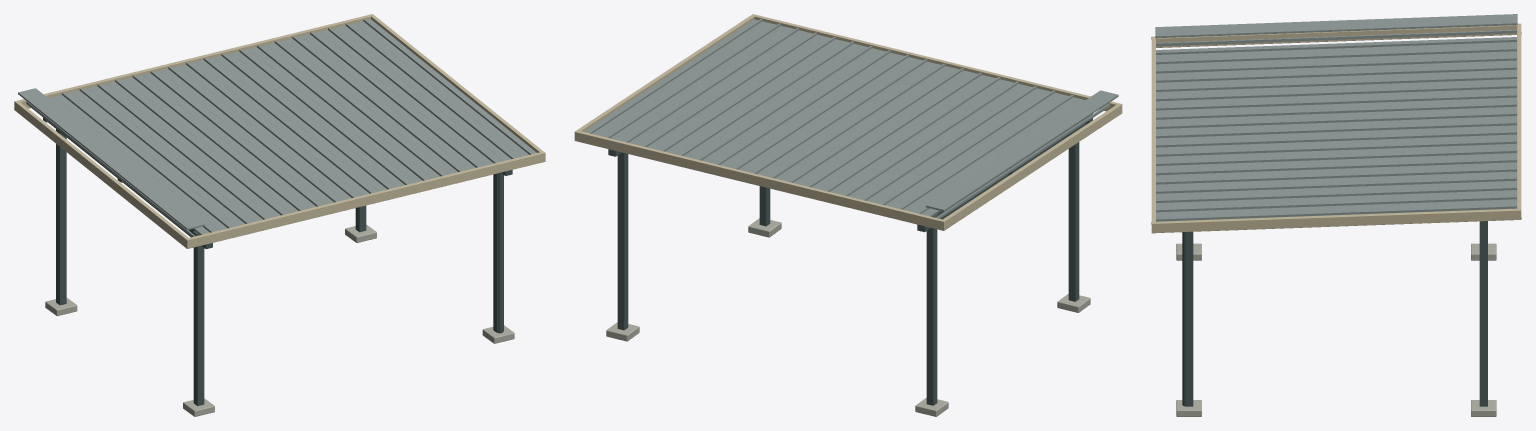
The model's file is source-edit.glb.
3 views of the same model, side by side, from view 1: azimuth 30°, elevation 25°; view 2: azimuth 150°, elevation 25°; view 3: azimuth 270°, elevation 25° (orthographic). The views are drawn at different scales.
Parts seen in each view (by area): view 1: FASCIA_End, ROOF_Sheet_0, ROOF_Sheet_13, ROOF_Sheet_11, ROOF_Sheet_18, ROOF_Sheet_2, ROOF_Sheet_14, ROOF_Sheet_17, ROOF_Sheet_10, ROOF_Sheet_15, ROOF_Sheet_4, ROOF_Sheet_6 (+35 smaller); view 2: FASCIA_End.001, ROOF_Sheet_0, ROOF_Sheet_2, ROOF_Sheet_5, ROOF_Sheet_7, ROOF_Sheet_18, ROOF_Sheet_3, ROOF_Sheet_4, ROOF_Sheet_9, ROOF_Sheet_11, ROOF_Sheet_16, ROOF_Sheet_14 (+35 smaller); view 3: FASCIA_Side.001, ROOF_Sheet_0, FASCIA_Side, ROOF_Sheet_14, ROOF_Sheet_15, ROOF_Sheet_13, ROOF_Sheet_16, ROOF_Sheet_10, ROOF_Sheet_11, ROOF_Sheet_12, ROOF_Sheet_17, ROOF_Sheet_18 (+37 smaller).
Boxes of the visible parts, x1,y1,x2,y2 form: FASCIA_End: (185,152,545,248); ROOF_Sheet_0: (18,88,204,230); ROOF_Sheet_13: (249,45,432,182); ROOF_Sheet_11: (213,53,396,191); ROOF_Sheet_18: (337,23,520,160); ROOF_Sheet_2: (54,92,236,230); ROOF_Sheet_14: (267,40,449,178); ROOF_Sheet_17: (320,27,503,165); ROOF_Sheet_10: (196,58,378,195); ROOF_Sheet_15: (284,36,467,173); ROOF_Sheet_4: (89,84,272,221); ROOF_Sheet_6: (125,75,307,212); FASCIA_End.001: (574,130,945,229); ROOF_Sheet_0: (926,90,1118,211); ROOF_Sheet_2: (893,95,1081,211); ROOF_Sheet_5: (838,81,1026,198); ROOF_Sheet_7: (802,72,989,189); ROOF_Sheet_18: (600,23,788,140); ROOF_Sheet_3: (875,90,1063,207); ROOF_Sheet_4: (856,86,1044,202); ROOF_Sheet_9: (765,63,953,180); ROOF_Sheet_11: (728,54,916,171); ROOF_Sheet_16: (637,32,825,149); ROOF_Sheet_14: (673,41,861,158); FASCIA_Side.001: (1151,208,1521,233); ROOF_Sheet_0: (1155,14,1517,38); FASCIA_Side: (1151,23,1521,47); ROOF_Sheet_14: (1156,157,1516,179); ROOF_Sheet_15: (1156,166,1516,188); ROOF_Sheet_13: (1156,148,1516,170); ROOF_Sheet_16: (1156,175,1516,197); ROOF_Sheet_10: (1156,120,1516,142); ROOF_Sheet_11: (1156,129,1516,151); ROOF_Sheet_12: (1156,138,1516,160); ROOF_Sheet_17: (1156,185,1516,207); ROOF_Sheet_18: (1156,194,1516,216).
Size of the model in its own units: 5.86 by 3.32 by 4.9.
